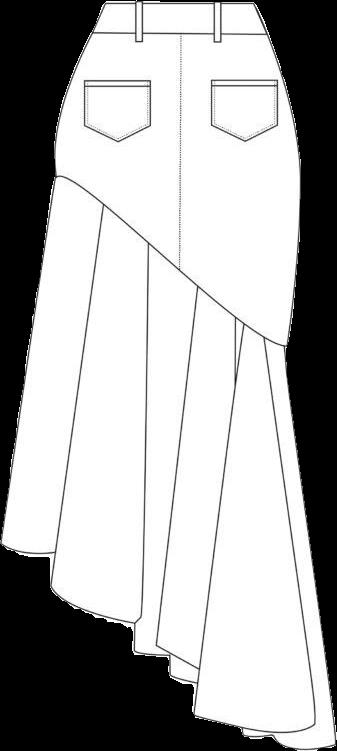Hemline: (0, 540, 336, 750)
Waistline: (52, 171, 290, 349), (88, 26, 271, 40), (99, 0, 259, 8)
